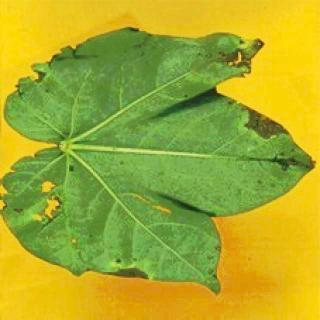blight: (191, 25, 317, 199), (100, 252, 158, 287)
